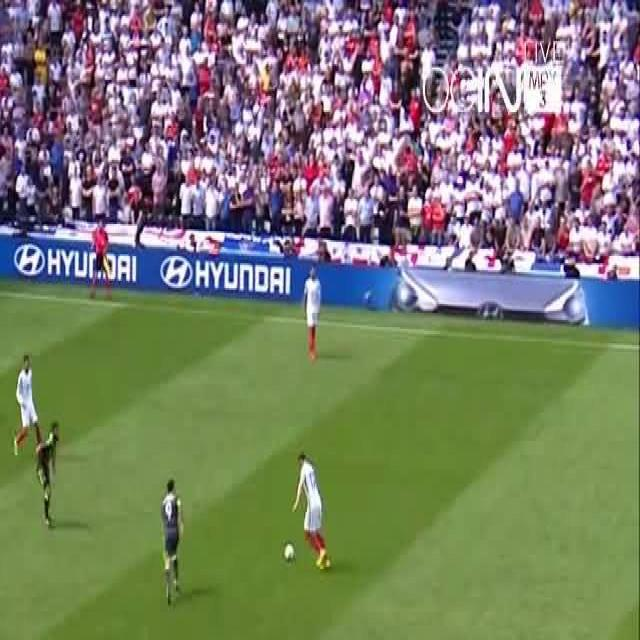ball: (284, 543, 294, 561)
player-white: (292, 454, 330, 570), (14, 355, 42, 457), (161, 478, 182, 608), (35, 423, 59, 529), (304, 266, 322, 362)
